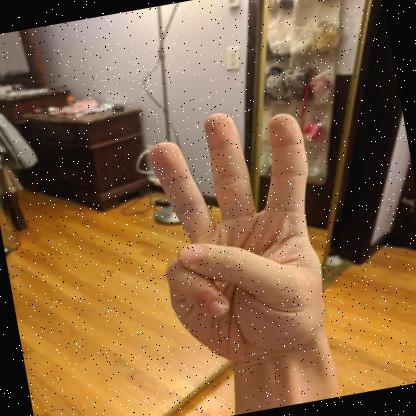W: (148, 113, 330, 368)
